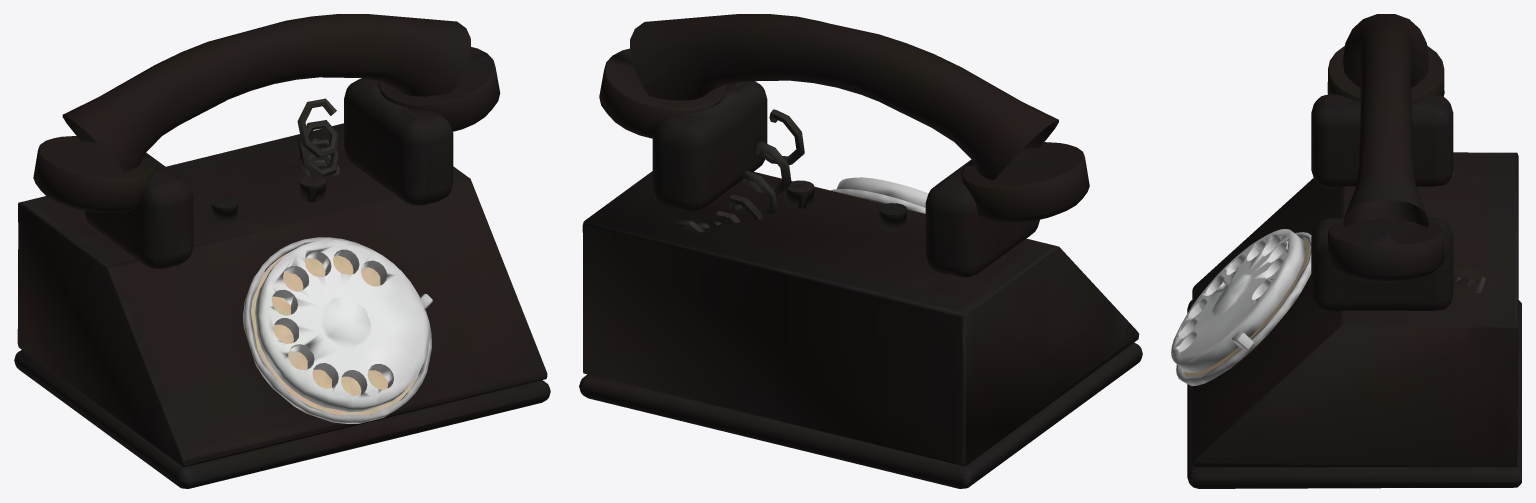
File: rotary-telephone.glb
3 views of the same model, side by side, from view 1: azimuth 30°, elevation 25°; view 2: azimuth 150°, elevation 25°; view 3: azimuth 270°, elevation 25° (orthographic). The views are drawn at different scales.
Parts seen in each view (by area): view 1: base; view 2: base; view 3: base.
Boxes of the visible parts, left/top/right/bottom form: base: left=14, top=14, right=550, bottom=488; base: left=579, top=14, right=1142, bottom=488; base: left=1171, top=14, right=1521, bottom=488.
Size of the model in its own units: 0.2654 by 0.1947 by 0.1827.
1 material, 1 textured.
